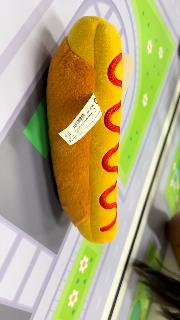hotdog: (46, 16, 124, 244)
